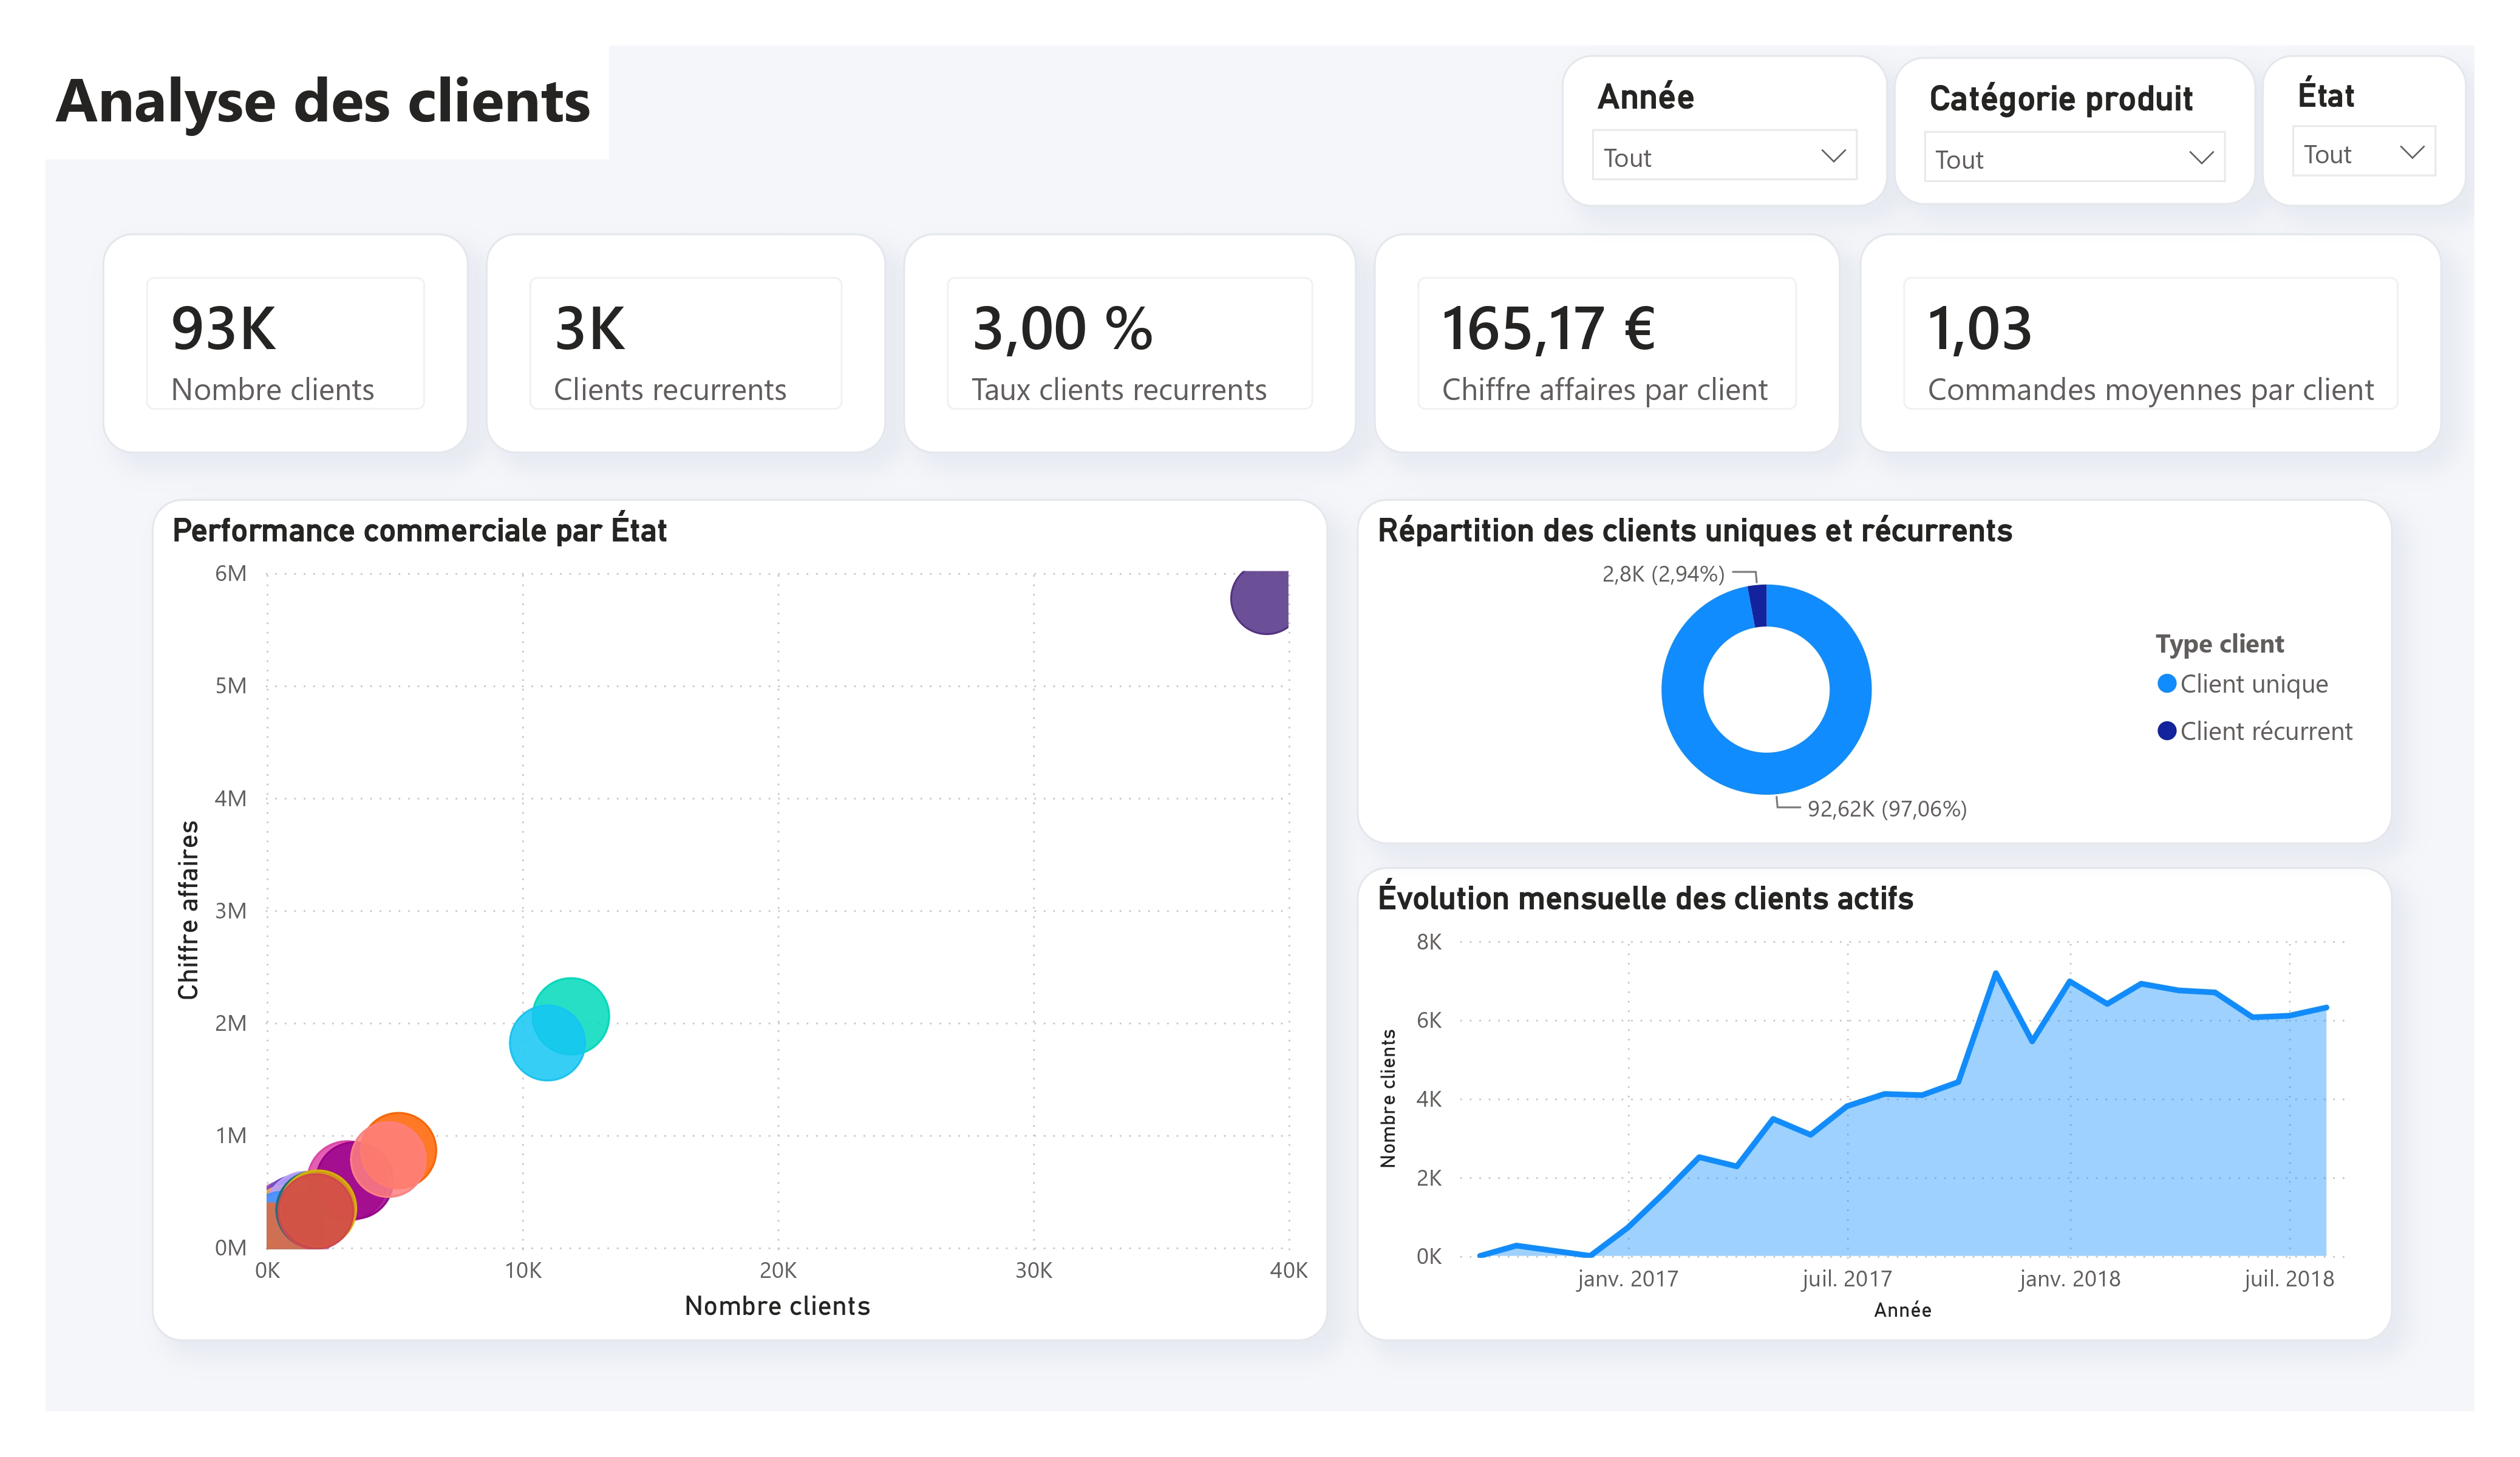

What the dashboard file says about the page in this screenshot:
{"tool":"powerbi","page":{"name":"Clients","canvas":[1280,720],"ordinal":3},"visuals":[{"type":"textbox","box":[0,0,297.1,60],"z":0},{"type":"cardVisual","fields":{"Data":["public fact_sales.Nombre clients"]},"box":[30,99.1,192.9,115.7],"z":1000},{"type":"cardVisual","fields":{"Data":["public fact_sales.Clients recurrents"]},"box":[232.5,99.1,210,115.7],"z":2000},{"type":"cardVisual","fields":{"Data":["public fact_sales.Taux clients recurrents"]},"box":[452.1,99.1,238.6,115.7],"z":3000},{"type":"cardVisual","fields":{"Data":["public fact_sales.Chiffre affaires par client"]},"box":[700.4,99.1,245.7,115.7],"z":4000},{"type":"cardVisual","fields":{"Data":["public fact_sales.Commandes moyennes par client"]},"box":[955.7,99.1,307.1,115.7],"z":5000},{"type":"scatterChart","title":"Performance commerciale par État","fields":{"X":["public fact_sales.Nombre clients"],"Y":["public fact_sales.Chiffre affaires"],"Size":["public fact_sales.Panier moyen"],"Series":["public dim_customer.customer_state"]},"box":[55.7,238.6,620,444.3],"z":6000},{"type":"areaChart","title":"Évolution mensuelle des clients actifs","fields":{"Y":["public fact_sales.Nombre clients"],"Category":["public dim_date.full_date.Variation.Hiérarchie de dates.Année","public dim_date.full_date.Variation.Hiérarchie de dates.Mois"]},"box":[691.4,432.9,545.7,250],"z":7000},{"type":"donutChart","title":"Répartition des clients uniques et récurrents","fields":{"Y":["CountNonNull(Segmentation clients.customer_unique_id)"],"Category":["Segmentation clients.Type client"]},"box":[691.4,238.6,545.7,182.9],"z":8000},{"type":"slicer","fields":{"Values":["public dim_date.year"]},"box":[799.3,5,171.4,80],"z":9000},{"type":"slicer","fields":{"Values":["public dim_product.product_category"]},"box":[973.6,5.7,191.4,78.6],"z":10000},{"type":"slicer","fields":{"Values":["public dim_customer.customer_state"]},"box":[1167.9,5,108.6,80],"z":11000}]}

Visuals, with their boxes on the page's 1280x720 design canvas (x1, y1, x2, y2). These are canvas units, not pixel positions in the 2520x1457 screenshot, which may show the page scaled, cropped or inside an application window:
textbox: x1=0, y1=0, x2=297, y2=60
cardVisual - public fact_sales.Nombre clients: x1=30, y1=99, x2=223, y2=215
cardVisual - public fact_sales.Clients recurrents: x1=232, y1=99, x2=442, y2=215
cardVisual - public fact_sales.Taux clients recurrents: x1=452, y1=99, x2=691, y2=215
cardVisual - public fact_sales.Chiffre affaires par client: x1=700, y1=99, x2=946, y2=215
cardVisual - public fact_sales.Commandes moyennes par client: x1=956, y1=99, x2=1263, y2=215
"Performance commerciale par État" scatterChart: x1=56, y1=239, x2=676, y2=683
"Évolution mensuelle des clients actifs" areaChart: x1=691, y1=433, x2=1237, y2=683
"Répartition des clients uniques et récurrents" donutChart: x1=691, y1=239, x2=1237, y2=422
slicer - public dim_date.year: x1=799, y1=5, x2=971, y2=85
slicer - public dim_product.product_category: x1=974, y1=6, x2=1165, y2=84
slicer - public dim_customer.customer_state: x1=1168, y1=5, x2=1276, y2=85
